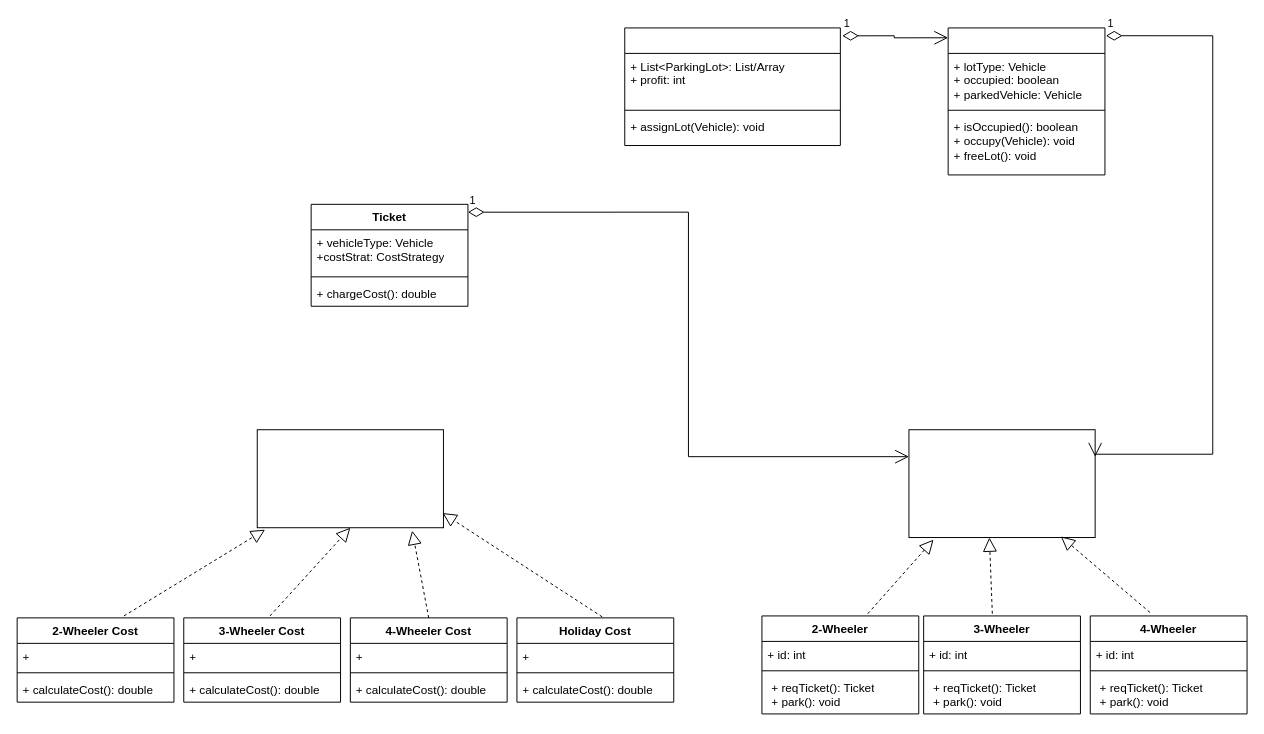
This 1264x734 diagram has some shape labels left out. The box of each missing label's shape, as (x1, y1, x2, y2) in pixels:
<<Interface>> CostStrategy + + calculateCost(): double: (256, 429, 443, 528)
<<Interface>> Vehicle + id: int + reqTicket(): Ticket + park(): void: (908, 429, 1095, 538)
ParkingLot: (947, 27, 1105, 175)
ParkingManager: (624, 27, 840, 146)
